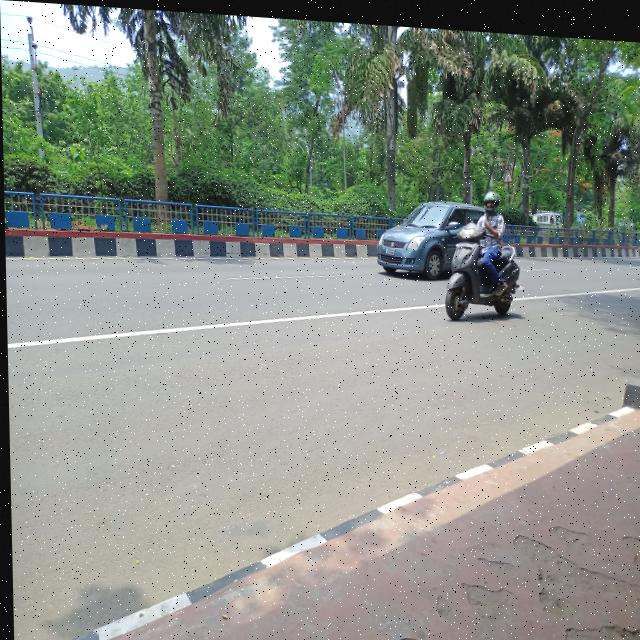bike: (439, 211, 537, 326)
car: (373, 178, 463, 273)
